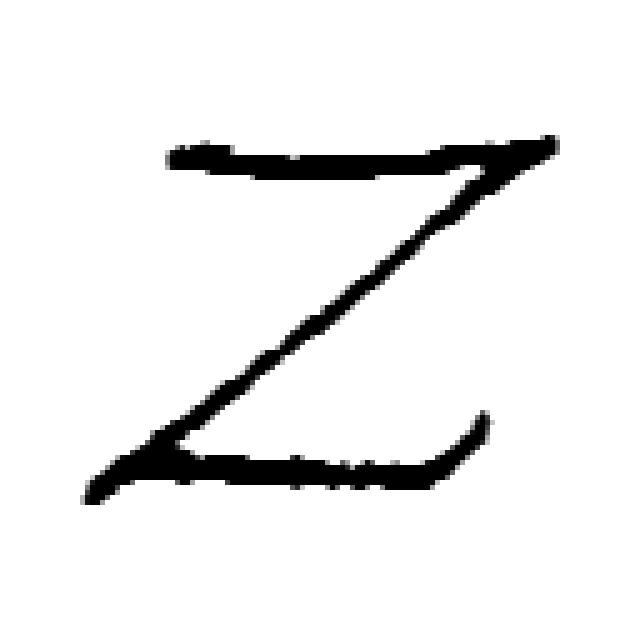Z: (75, 120, 565, 510)
